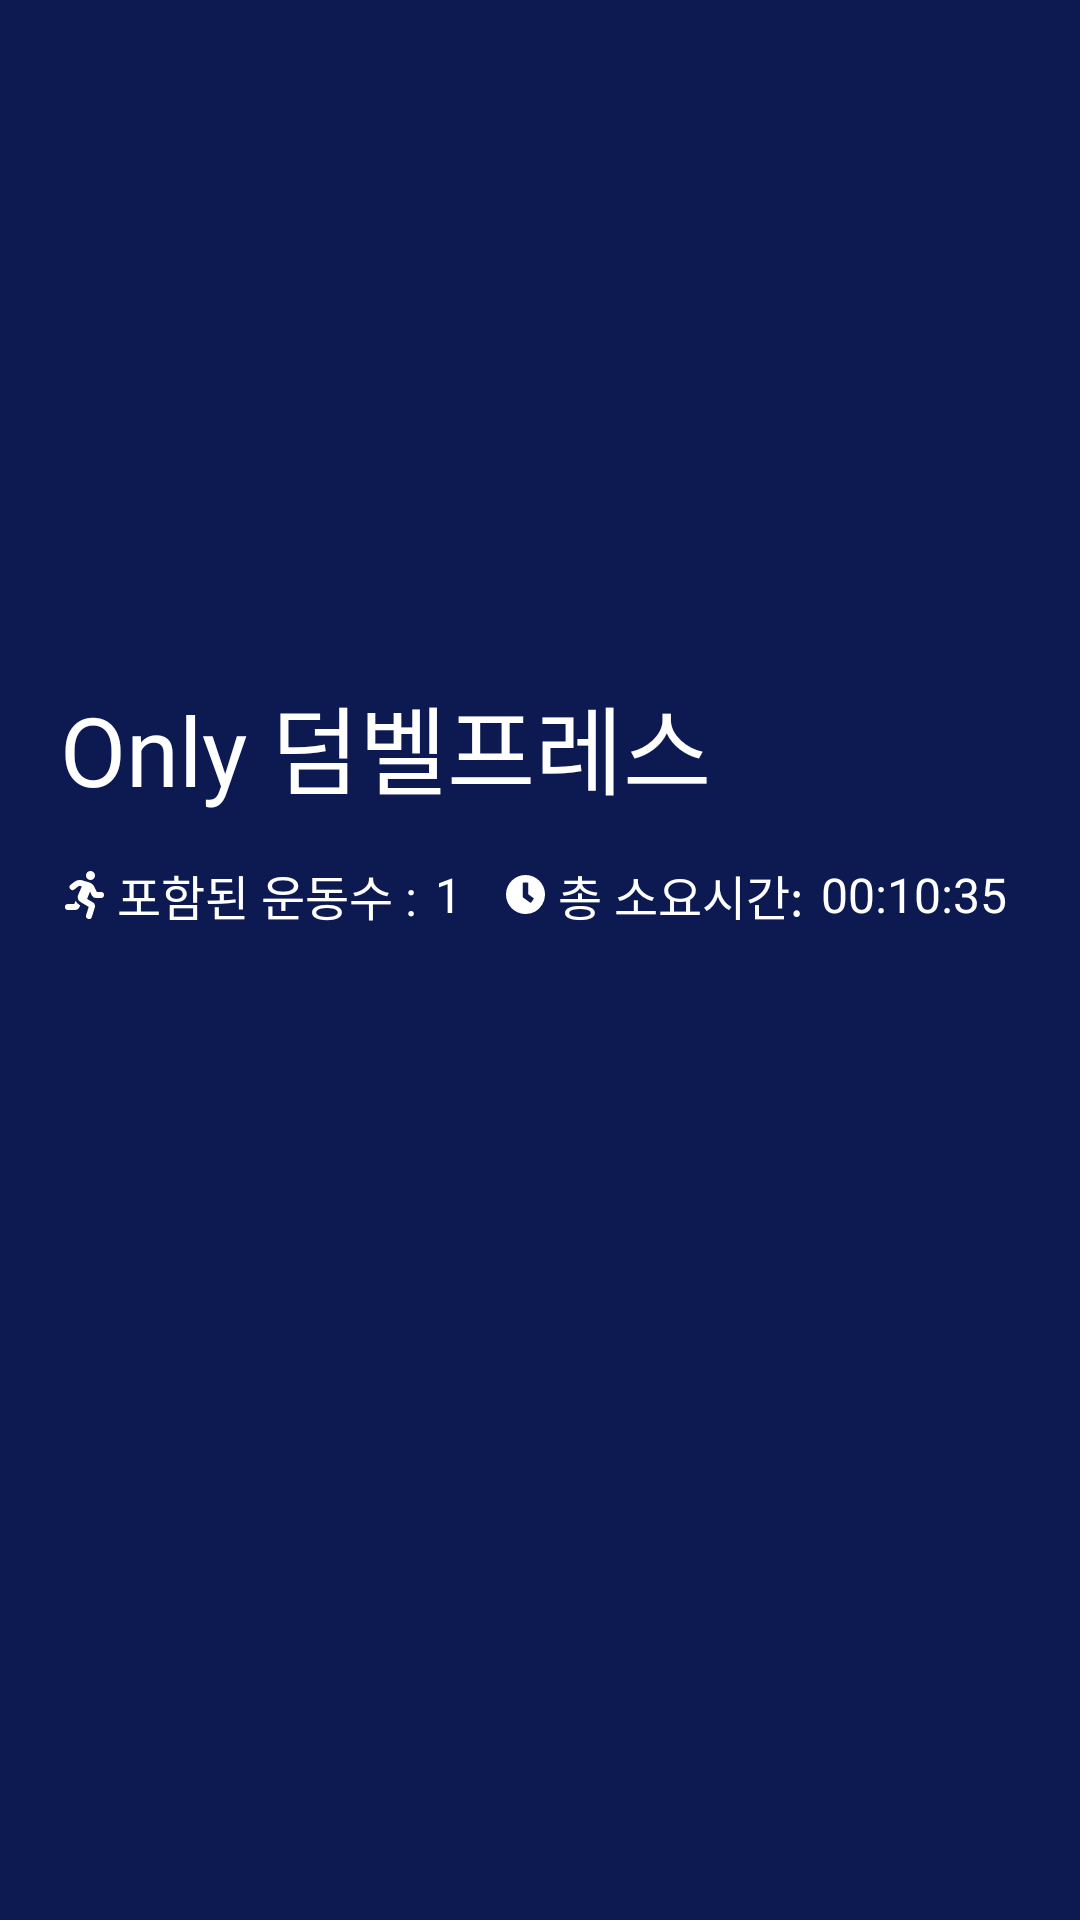

Point at icon controls on the screen. Image size 1080px x 1920px, points as [x,y].
clock: [525,894]
running: [84,895]
